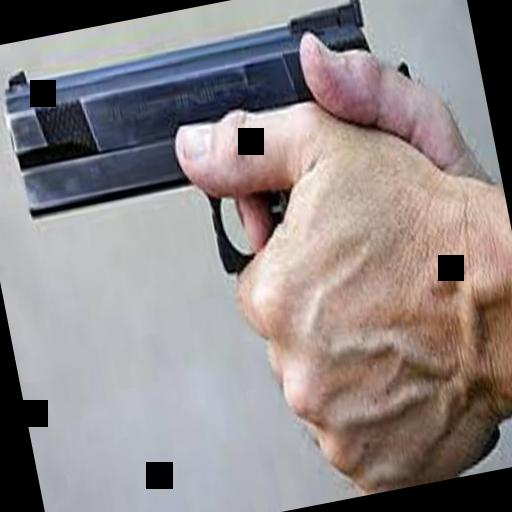Handgun: (0, 0, 453, 332)
